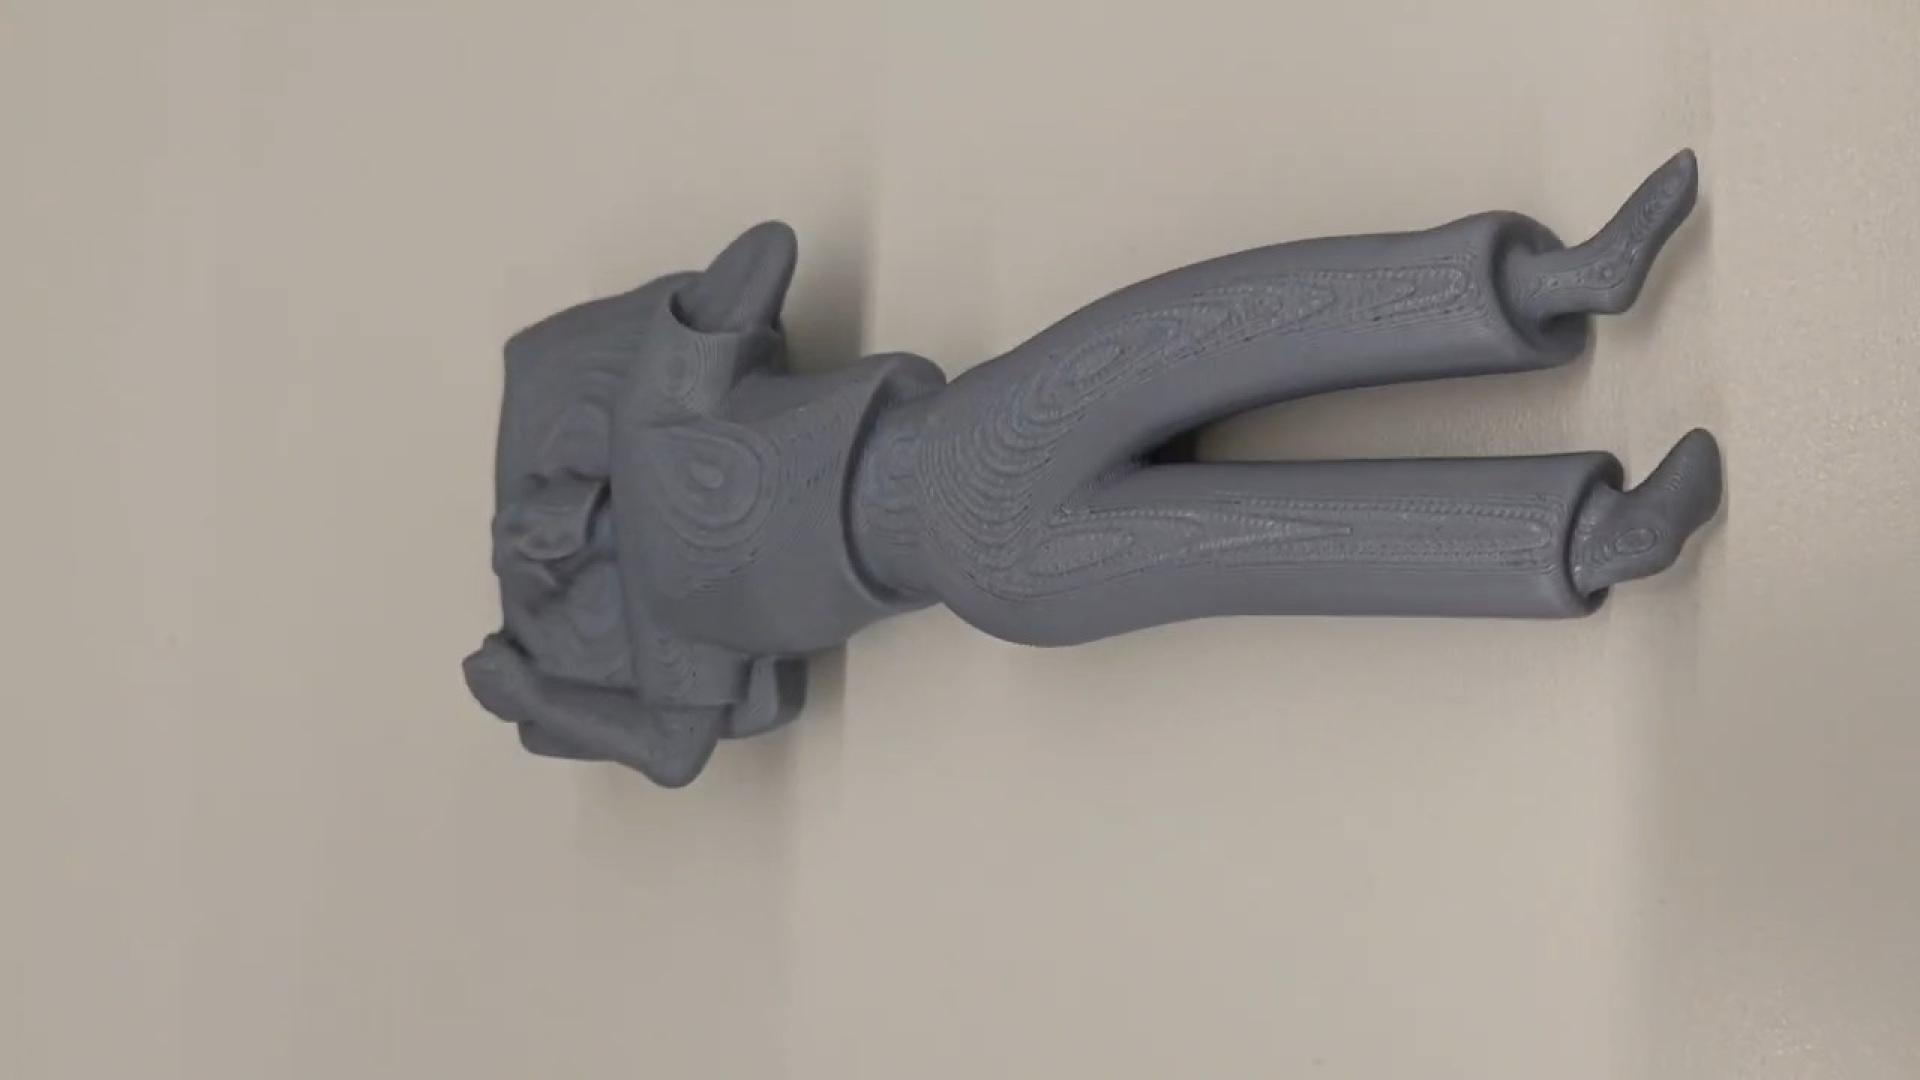Bad-style: (465, 133, 1727, 798)
